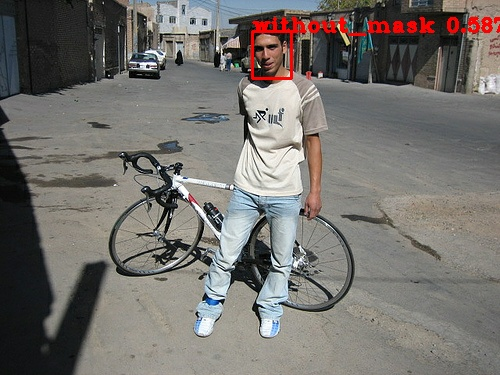without_mask: (251, 30, 289, 76)
